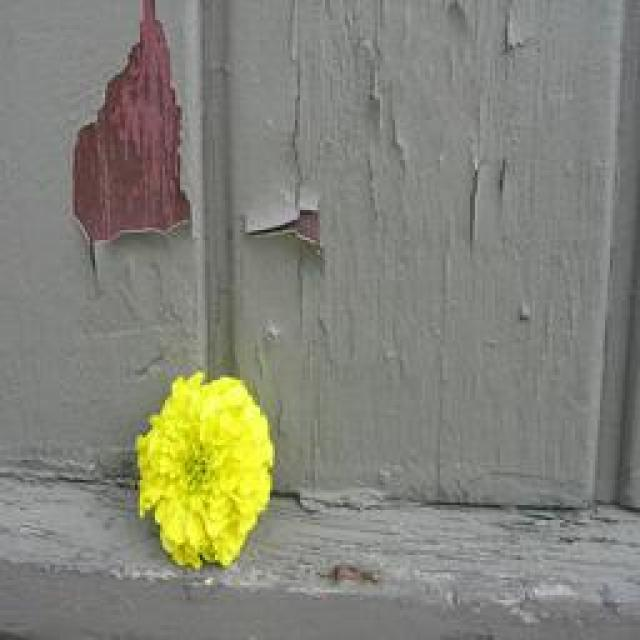carnation: (121, 344, 287, 568)
